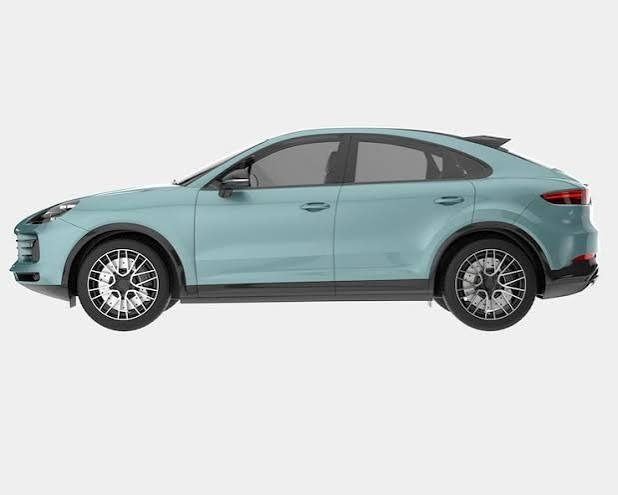car: (1, 132, 618, 342)
